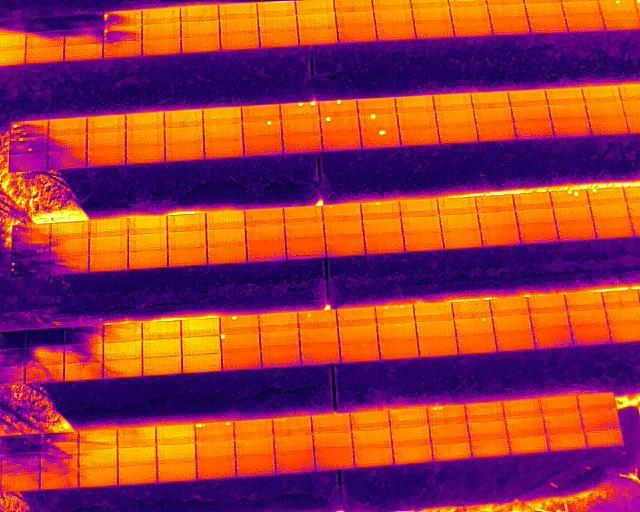Cell: (454, 317, 494, 336), (360, 130, 401, 148), (361, 199, 402, 217), (298, 310, 336, 329), (220, 333, 260, 351), (103, 9, 142, 27), (357, 114, 399, 130), (242, 120, 281, 137), (220, 316, 259, 333), (319, 101, 360, 117), (320, 116, 361, 131), (588, 189, 627, 204), (102, 28, 141, 43), (600, 0, 636, 15)
Cell-Multi: (195, 421, 235, 443), (375, 305, 414, 324), (428, 406, 466, 424), (9, 137, 49, 153), (10, 261, 50, 277), (280, 102, 319, 118), (11, 122, 49, 138), (548, 191, 590, 204)
No-Anomaly: (78, 428, 117, 451), (234, 455, 275, 476), (314, 449, 354, 470), (543, 415, 583, 435), (117, 465, 157, 485), (261, 349, 301, 369), (389, 407, 428, 427), (234, 419, 273, 439), (468, 420, 507, 440), (390, 426, 429, 446), (117, 447, 156, 467), (78, 468, 117, 488), (534, 328, 573, 348), (418, 337, 457, 357), (554, 220, 595, 239), (350, 411, 391, 430), (310, 414, 351, 433), (221, 352, 262, 371), (441, 230, 484, 248), (582, 411, 620, 431), (272, 417, 312, 436), (429, 424, 469, 443), (351, 430, 391, 449), (354, 448, 394, 467), (274, 454, 314, 473), (195, 460, 235, 479), (377, 322, 417, 341), (299, 347, 339, 366), (181, 354, 221, 373), (320, 132, 362, 150), (518, 223, 560, 241), (391, 447, 433, 465), (540, 396, 579, 415), (156, 425, 195, 444), (117, 428, 156, 447), (414, 303, 453, 322), (337, 307, 376, 326), (259, 312, 298, 331), (180, 336, 219, 355), (379, 340, 418, 359), (402, 231, 443, 249), (339, 344, 380, 362), (466, 401, 504, 420), (204, 141, 244, 159), (205, 210, 245, 228), (89, 218, 129, 236), (481, 227, 521, 245), (364, 234, 404, 252), (195, 442, 235, 460), (167, 247, 207, 265), (141, 322, 181, 340), (298, 329, 338, 347), (259, 331, 299, 349), (141, 338, 181, 356), (103, 341, 143, 359), (282, 135, 324, 152), (594, 220, 636, 237), (85, 118, 127, 135), (244, 241, 286, 258), (126, 144, 165, 162), (323, 204, 362, 222), (49, 223, 88, 241), (470, 439, 509, 457), (78, 450, 117, 468), (156, 462, 195, 480), (490, 298, 529, 316), (492, 315, 531, 333), (338, 326, 377, 344), (571, 327, 610, 345), (458, 336, 497, 354), (143, 357, 182, 375), (242, 138, 283, 155), (324, 237, 365, 254), (87, 256, 128, 273), (401, 199, 439, 217), (578, 393, 614, 412), (503, 398, 541, 416), (507, 417, 545, 435), (528, 295, 566, 313), (495, 333, 533, 351), (206, 228, 246, 245), (88, 237, 128, 254), (312, 431, 352, 448), (509, 436, 549, 453), (553, 119, 593, 136), (439, 214, 481, 230), (513, 123, 555, 139), (141, 8, 180, 25), (584, 430, 623, 447), (274, 437, 313, 454), (156, 444, 195, 461), (180, 21, 219, 38), (568, 310, 607, 327), (181, 318, 220, 335), (437, 198, 478, 214), (478, 211, 519, 227), (283, 223, 324, 239), (234, 439, 275, 455), (471, 92, 512, 108), (395, 97, 436, 113), (397, 113, 438, 129), (475, 125, 516, 141), (591, 204, 631, 220), (284, 207, 324, 223), (127, 218, 167, 234), (127, 235, 167, 251), (431, 444, 471, 460), (357, 98, 397, 114), (218, 3, 258, 19), (586, 102, 626, 118), (511, 106, 551, 122), (435, 110, 475, 126), (163, 111, 203, 127), (282, 119, 322, 135), (203, 123, 243, 139), (437, 127, 477, 143), (285, 239, 325, 255), (206, 246, 246, 262), (127, 252, 167, 268), (102, 324, 142, 340), (399, 129, 441, 144), (514, 208, 556, 223), (322, 222, 364, 237), (566, 293, 603, 310), (531, 312, 568, 329), (417, 322, 454, 339), (297, 14, 336, 30), (259, 17, 298, 33), (103, 43, 142, 59), (563, 1, 602, 17), (126, 114, 165, 130), (141, 25, 180, 41), (244, 210, 285, 225), (363, 218, 404, 233), (581, 86, 622, 101), (202, 108, 243, 123), (87, 134, 125, 150), (167, 230, 205, 246), (221, 34, 259, 50), (548, 434, 586, 450), (164, 128, 204, 143), (125, 129, 165, 144), (164, 144, 204, 159), (86, 151, 126, 166), (258, 33, 298, 48), (545, 89, 585, 104), (474, 108, 514, 123), (588, 118, 628, 133), (476, 195, 515, 210), (167, 215, 206, 230), (180, 37, 219, 52), (434, 95, 473, 110), (548, 104, 587, 119), (566, 18, 605, 33), (491, 20, 530, 35), (452, 301, 491, 316), (400, 217, 441, 231), (245, 226, 286, 240), (511, 91, 549, 106), (527, 3, 565, 18), (338, 27, 376, 42), (373, 11, 413, 25), (141, 40, 181, 54), (296, 0, 336, 14), (241, 105, 281, 119), (376, 26, 416, 40), (49, 120, 86, 135), (336, 13, 375, 27), (514, 195, 553, 209), (553, 205, 592, 219), (64, 45, 103, 59), (25, 48, 64, 62), (257, 1, 296, 15), (488, 6, 527, 20), (219, 19, 258, 33), (452, 22, 491, 36), (414, 24, 453, 38), (603, 15, 639, 30), (299, 30, 337, 44), (530, 19, 568, 33), (412, 10, 452, 23), (450, 9, 489, 22), (334, 0, 372, 13), (180, 7, 218, 20)
Shadowing: (49, 238, 89, 259), (63, 362, 103, 382), (1, 453, 41, 473), (40, 469, 78, 489), (10, 242, 50, 261), (0, 435, 41, 453), (102, 360, 143, 378), (49, 256, 88, 274), (41, 432, 79, 450), (41, 451, 79, 469), (48, 135, 87, 152), (25, 330, 64, 347), (26, 346, 64, 363), (0, 474, 40, 490), (64, 345, 104, 361), (64, 13, 103, 29), (25, 365, 64, 381), (9, 155, 47, 171), (12, 225, 50, 241), (26, 32, 64, 48), (47, 153, 87, 168), (64, 328, 104, 343), (25, 16, 64, 31), (63, 30, 102, 45)
